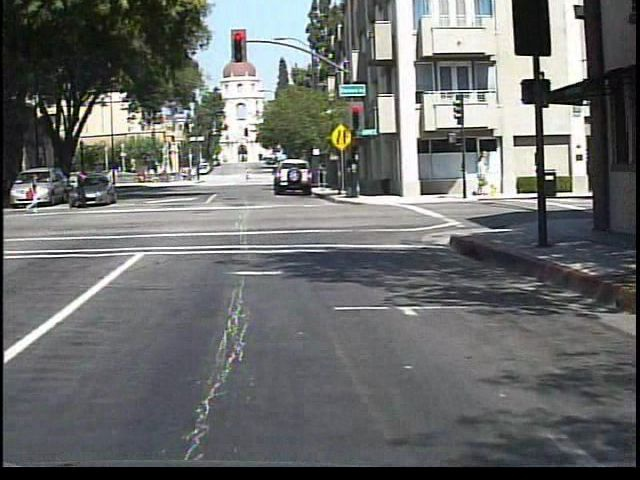person: (24, 172, 46, 217), (69, 168, 90, 211), (244, 167, 253, 185)
